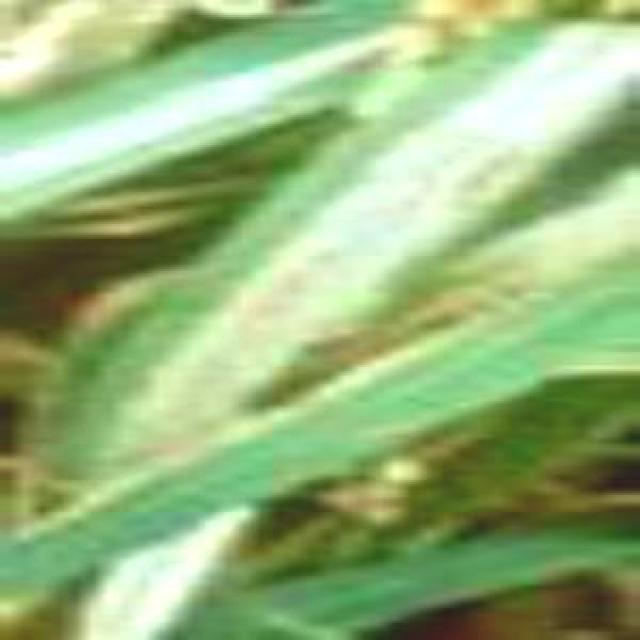Rice_Bacterial_Blight: (160, 21, 638, 382)
